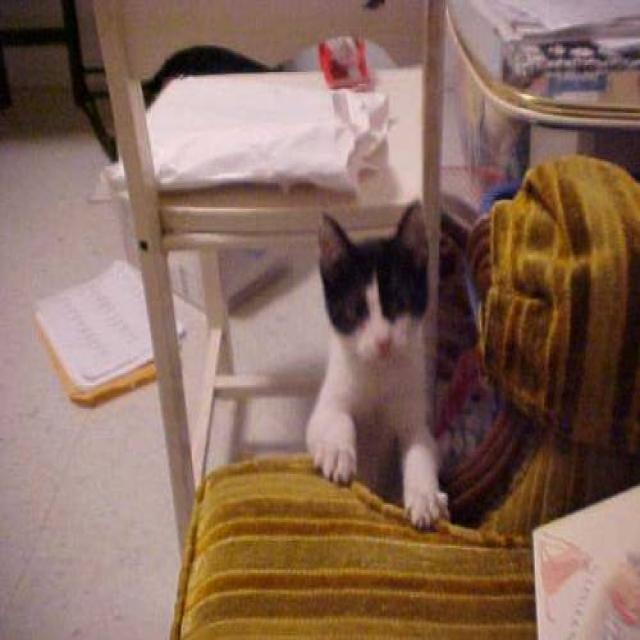cat: (303, 197, 452, 529)
